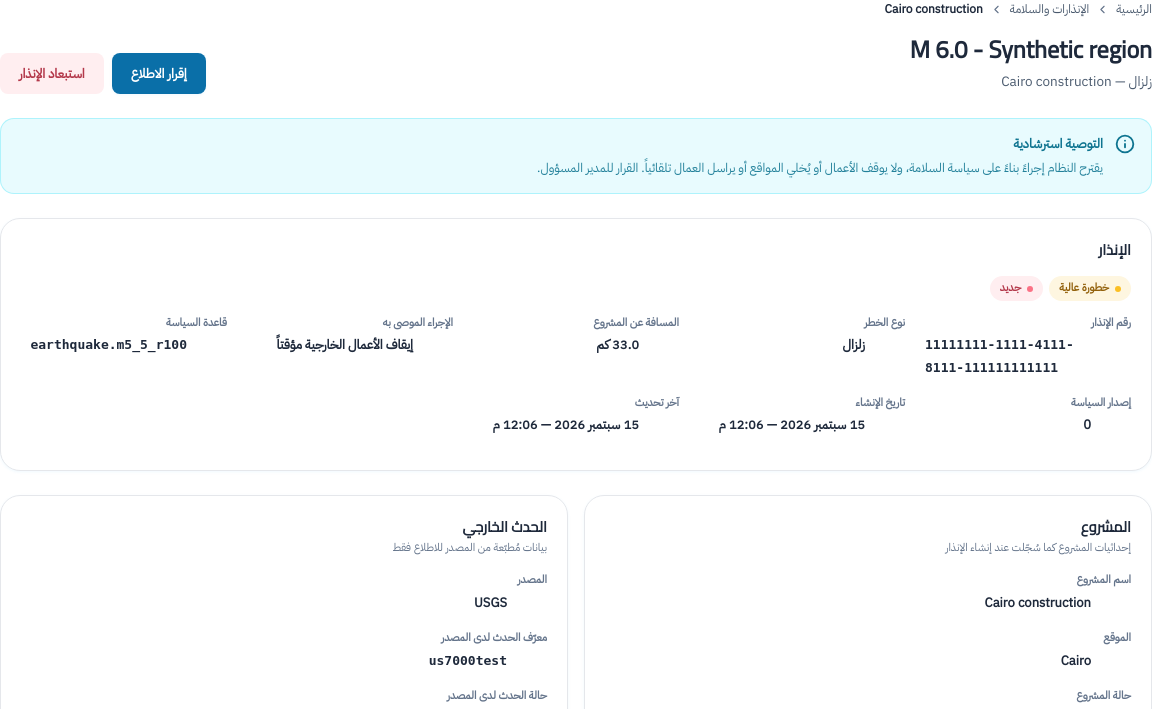
Test: SafetyAlertDetailPage › requires a dismissal reason and confirms before dismissing
The image size is (1152, 709).
Click the button "استبعاد الإنذار" at (52, 74), box 0,53 -> 104,94
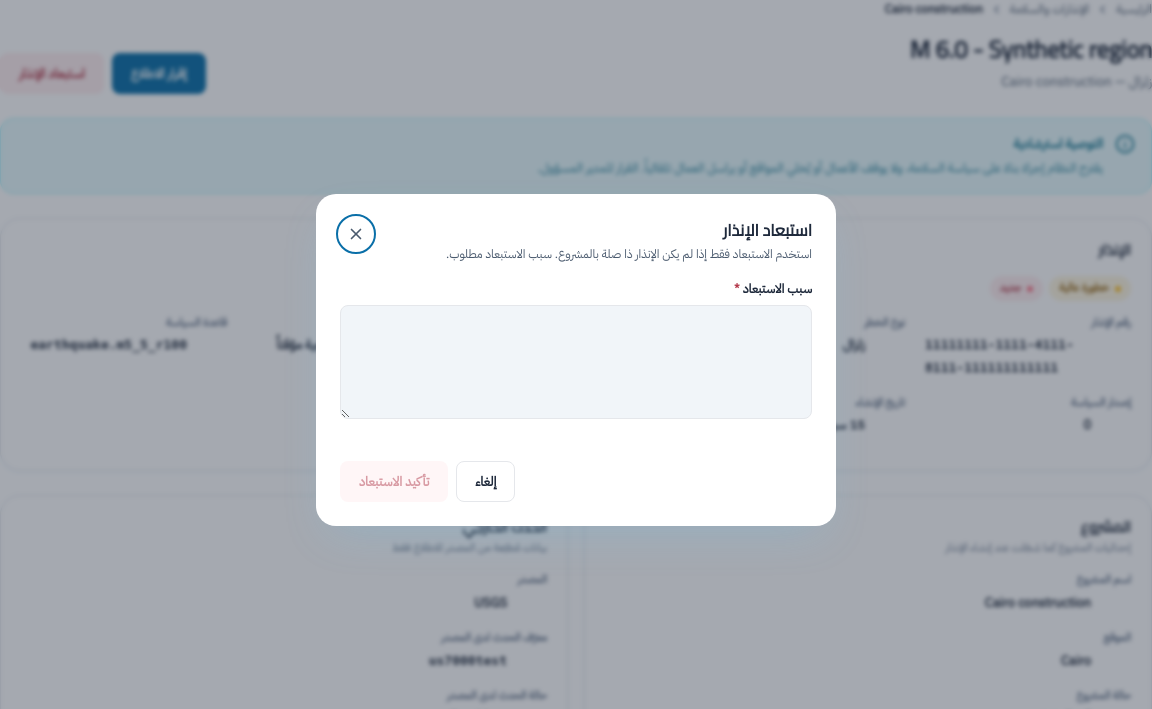
Check: the button "تأكيد الاستبعاد" is disabled, box 340,461 -> 448,502
Type "Not relevant" into the text box labelled "سبب الاستبعاد*" at (576, 362), box 340,305 -> 812,419
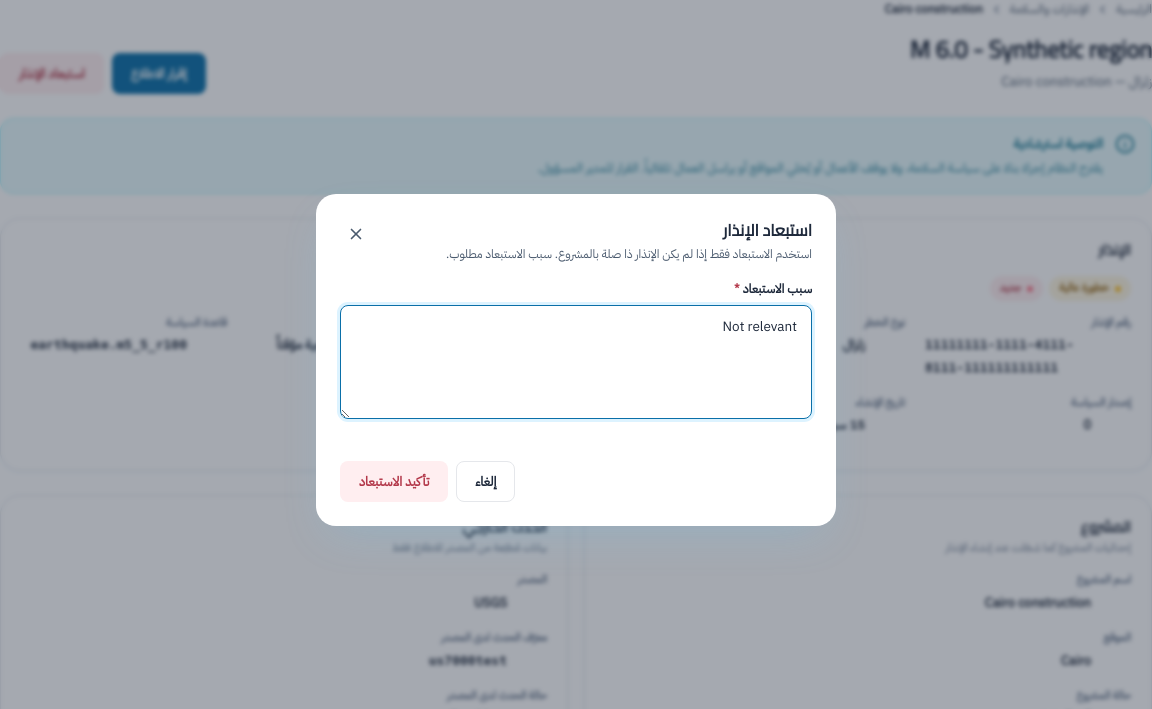
Click the button "تأكيد الاستبعاد" at (394, 481), box 340,461 -> 448,502
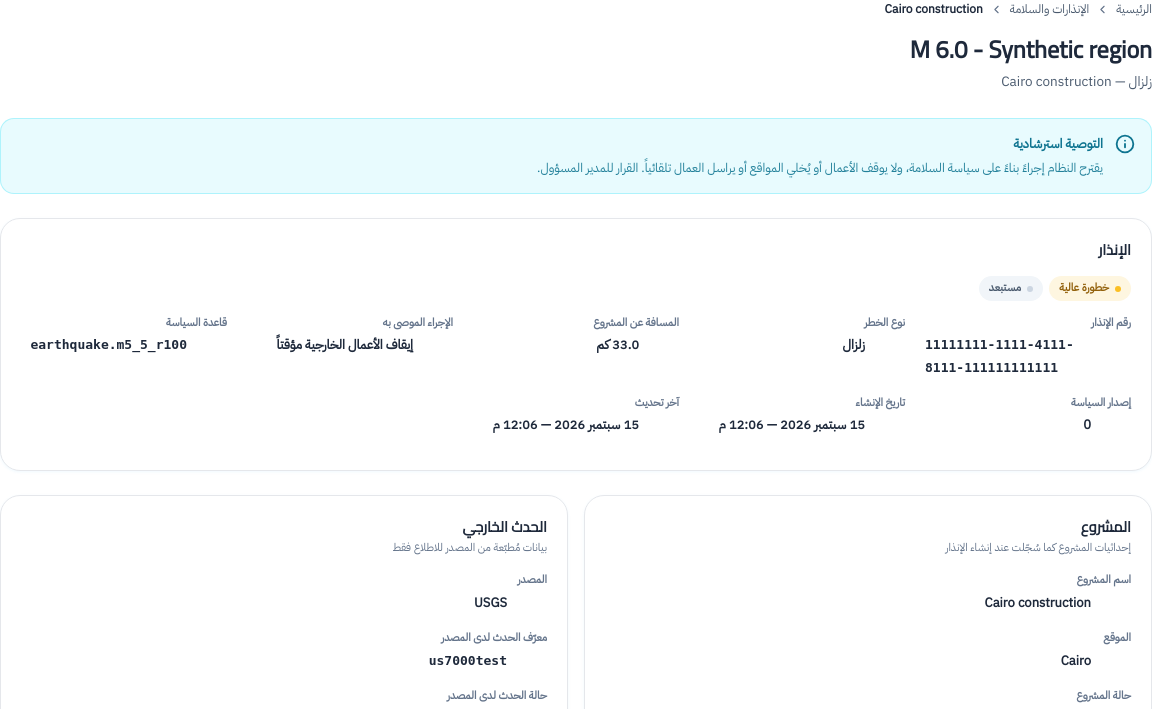
Check: the text "مستبعد" is shown, box 979,276 -> 1043,301
